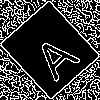A: (25, 25, 81, 83)
